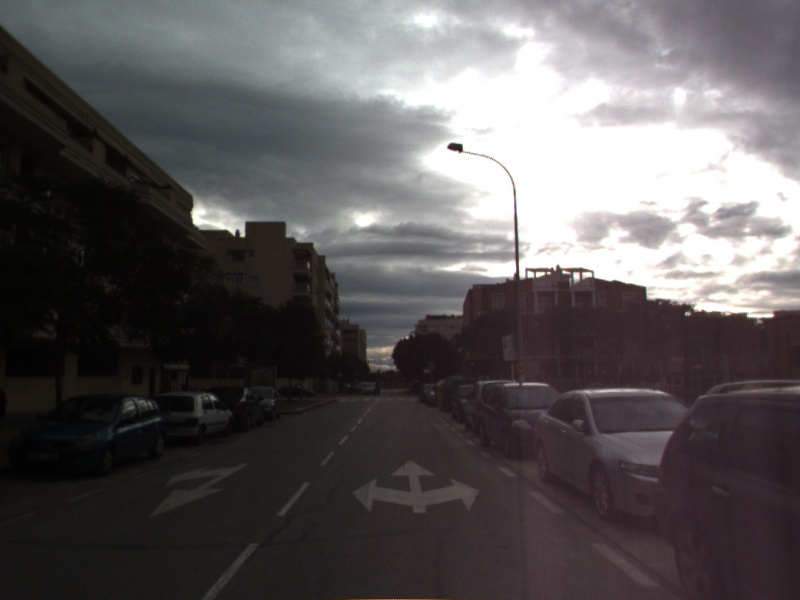STRAIGHT_LEFT_RIGHT: (349, 457, 483, 515)
